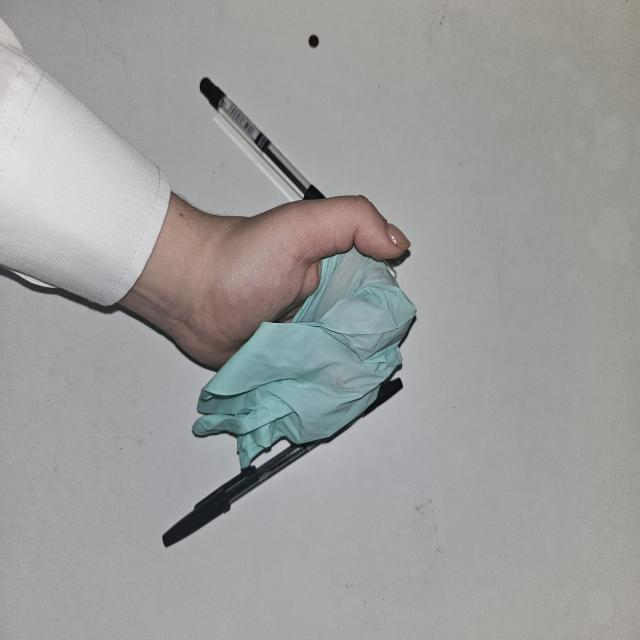glove_partial: (190, 192, 418, 470)
